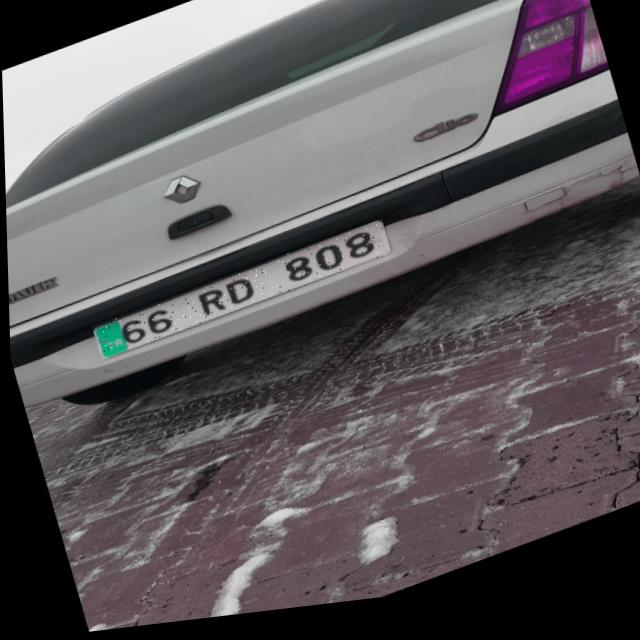license_plate: (88, 226, 391, 362)
